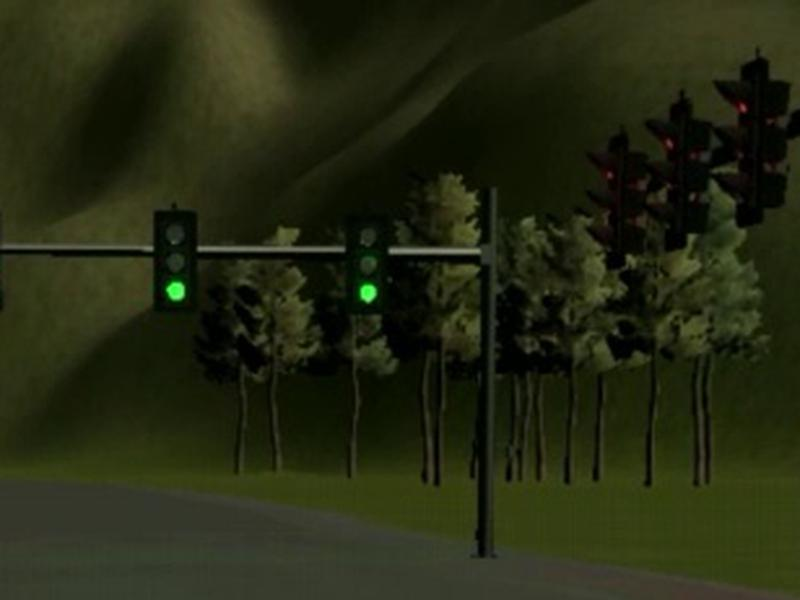Green: (152, 209, 197, 312), (346, 210, 389, 312)
